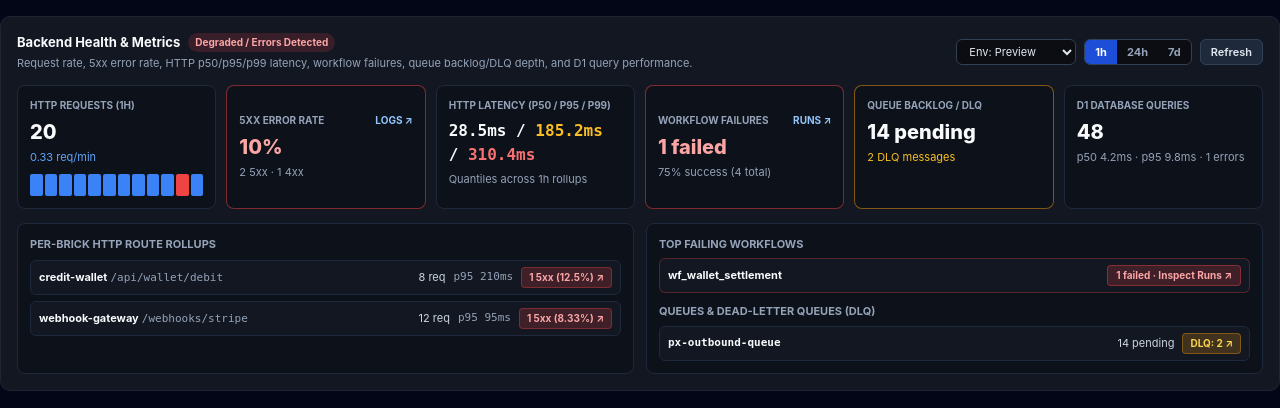
Test case: Story 6.4 — BackendHealthPanel UI & Drill-down Navigation › renders 1h/24h/7d metrics, latency quantiles, queue DLQ depth, and persists window/env selection
Expected: the text with test id "health-metric-request-count" reads "20", top-left (30, 120), bottom-right (57, 144)
Expected: the text with test id "health-metric-error-rate" reads "10%", top-left (239, 135), bottom-right (283, 159)
Switch to 24h window
Step 1. Click the button with test id "health-window-24h" → {"x": 1137, "y": 52}, box top-left (1117, 40), bottom-right (1158, 64)
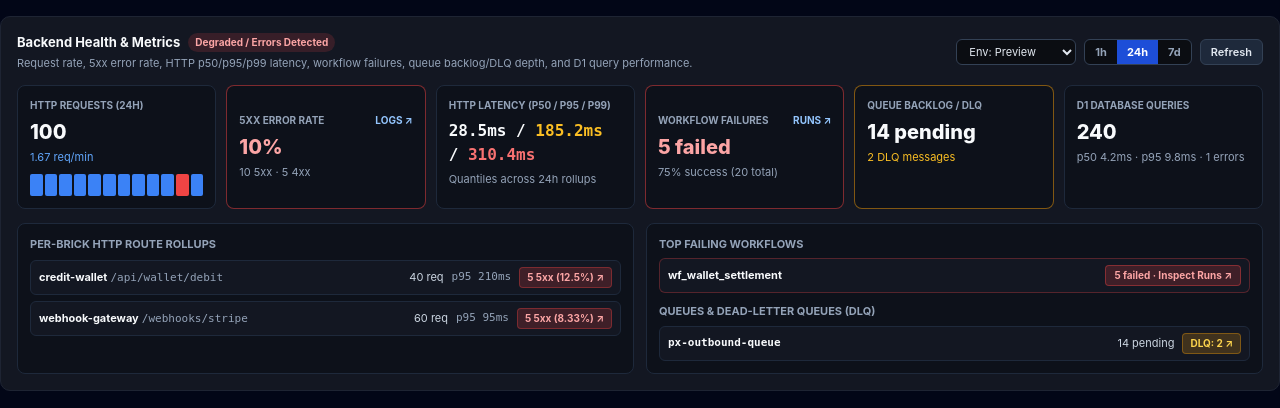
Expected: the text with test id "health-metric-request-count" reads "100", top-left (30, 120), bottom-right (66, 144)
Switch to 7d window
Step 2. Click the button with test id "health-window-7d" → {"x": 1174, "y": 52}, box top-left (1158, 40), bottom-right (1191, 64)
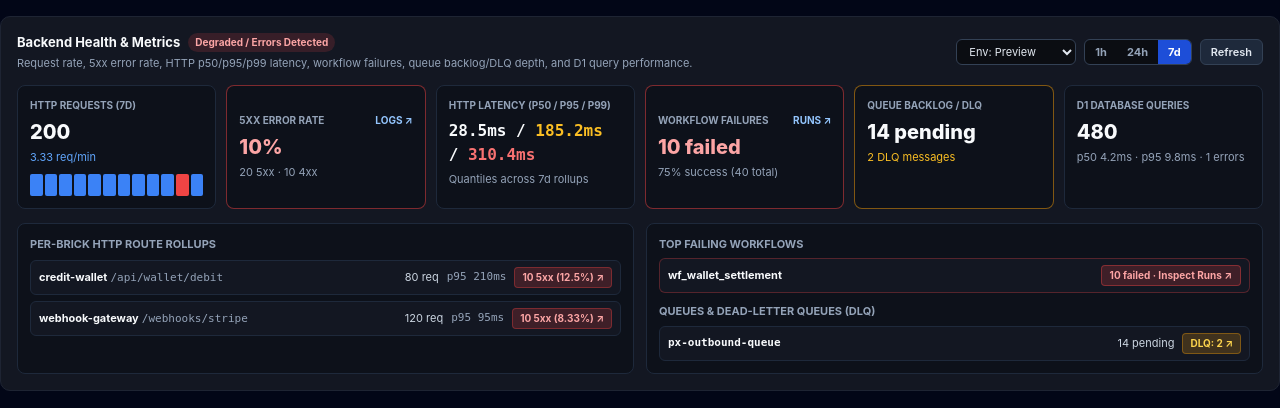
Expected: the text with test id "health-metric-request-count" reads "200", top-left (30, 120), bottom-right (70, 144)
